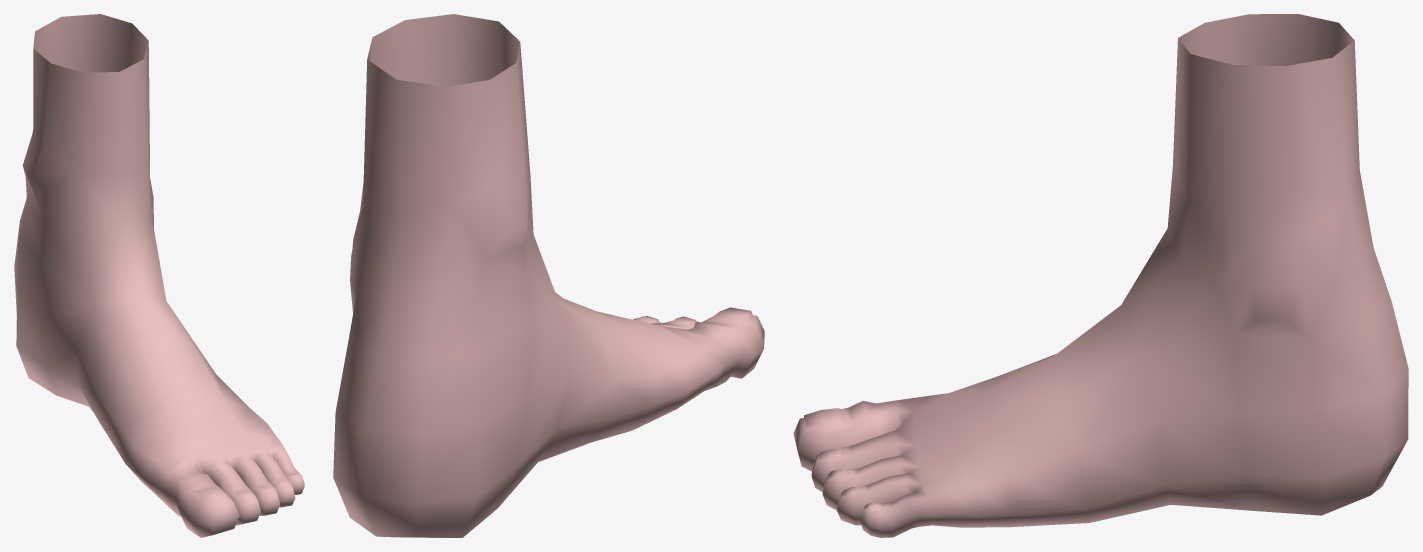
Rendered from Superhero_Female_A_Foot01.fbx.
3 renders of one model, left to right at view 1: azimuth 30°, elevation 25°; view 2: azimuth 150°, elevation 25°; view 3: azimuth 270°, elevation 25°, orthographic. The views are drawn at different scales.
Visible parts, largest first — view 1: Superhero_Female_A_Foot01; view 2: Superhero_Female_A_Foot01; view 3: Superhero_Female_A_Foot01.
Boxes of the visible parts, left/top/right/bottom form: Superhero_Female_A_Foot01: left=14, top=14, right=304, bottom=537; Superhero_Female_A_Foot01: left=333, top=14, right=764, bottom=537; Superhero_Female_A_Foot01: left=793, top=14, right=1408, bottom=537.
Size of the model in its own units: 0.6036 by 1.4 by 1.67.
